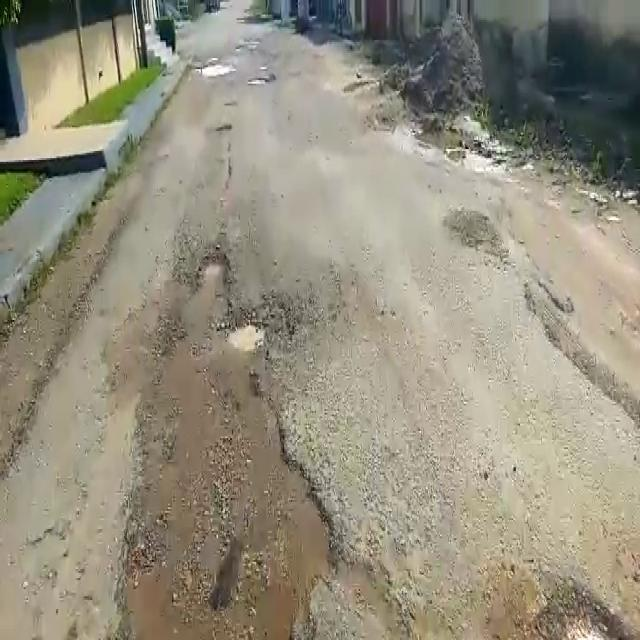Pothole: (225, 299, 286, 364)
